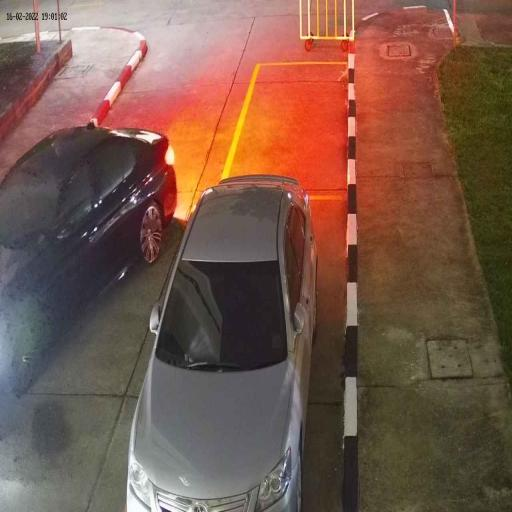car: (125, 171, 320, 512), (0, 119, 180, 404)
